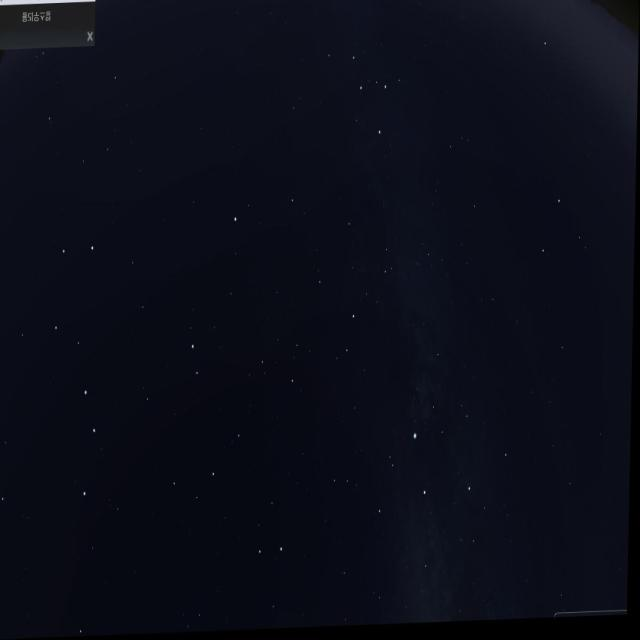cassiopeia: (301, 30, 424, 168)
cygnus: (372, 418, 480, 627)
ursa_major: (38, 233, 108, 510)
